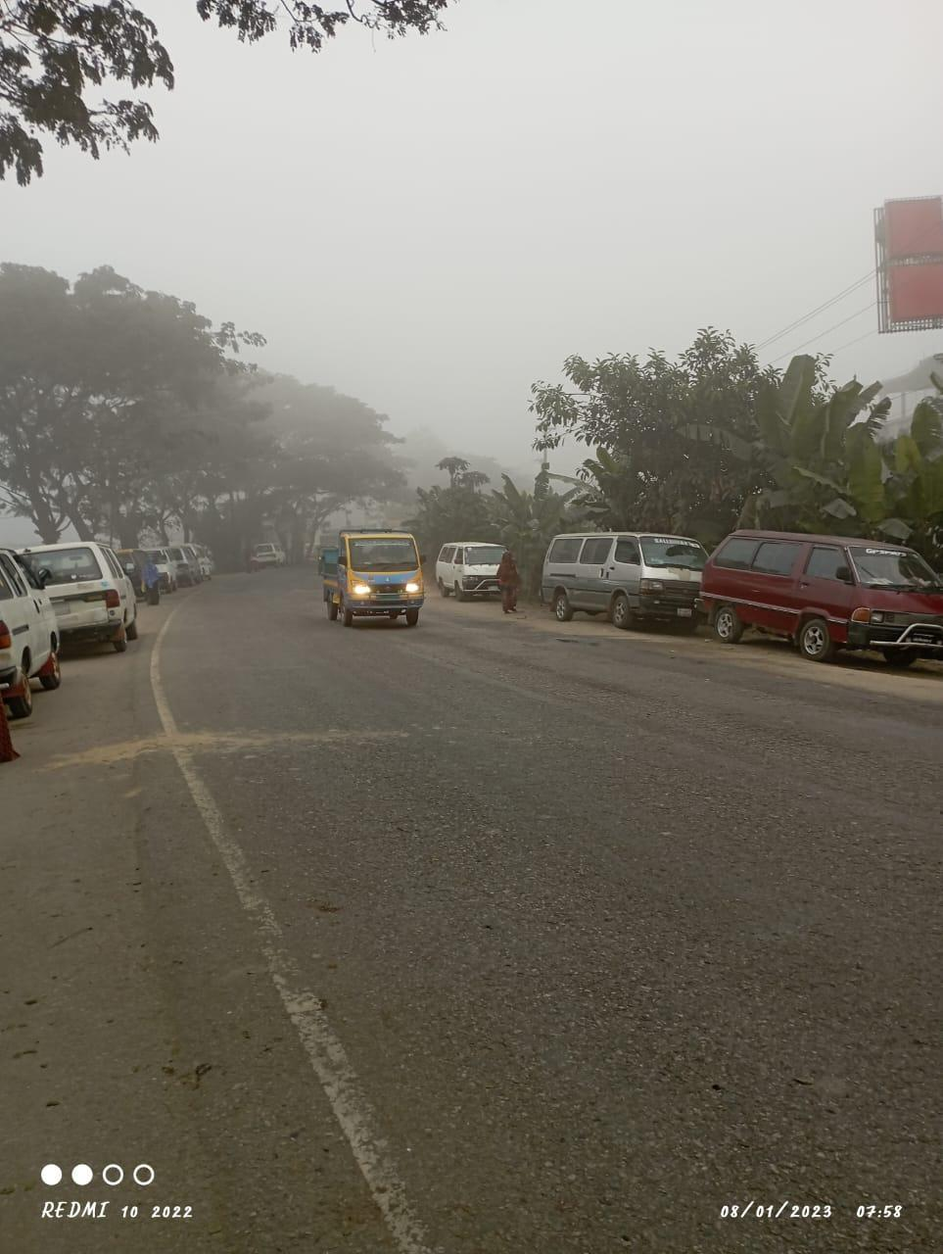Car: (693, 532, 925, 681), (538, 520, 694, 628), (36, 533, 151, 654), (427, 537, 518, 599), (237, 534, 288, 571)
Truck: (307, 525, 437, 627)
